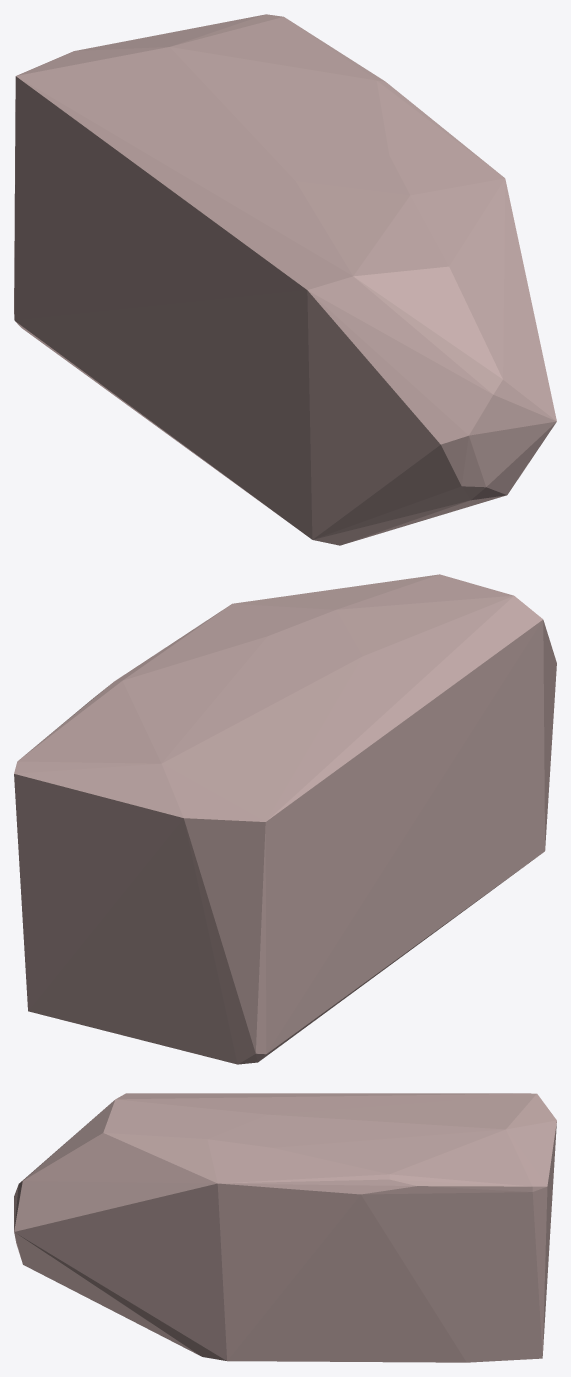
File: disinfectant_c01.glb
3 renders of one model, top to bottom at view 1: azimuth 30°, elevation 25°; view 2: azimuth 150°, elevation 25°; view 3: azimuth 270°, elevation 25°, orthographic. The views are drawn at different scales.
Visible parts, largest first — view 1: geometry_0; view 2: geometry_0; view 3: geometry_0.
Part boxes in pixels (bbox=[...]): geometry_0: bbox=[14, 14, 556, 545]; geometry_0: bbox=[14, 574, 556, 1064]; geometry_0: bbox=[14, 1093, 556, 1362].
Bounding box in the file's own units: 0.1962 × 0.1876 × 0.4793.
